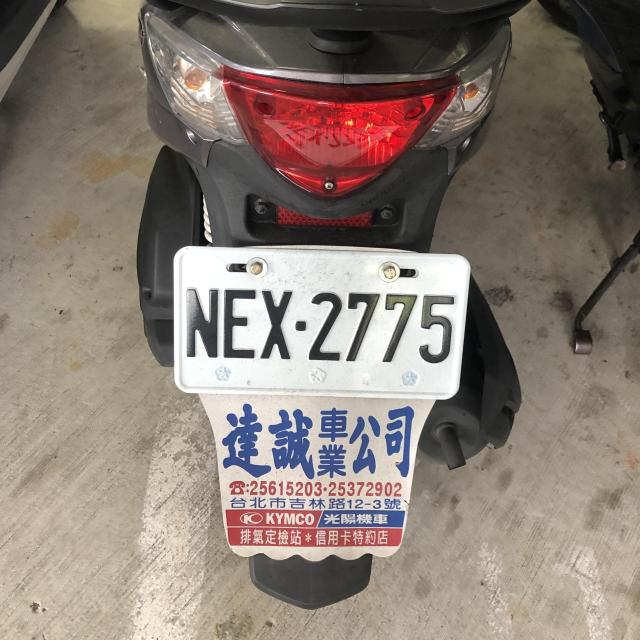W: (167, 241, 470, 394)
